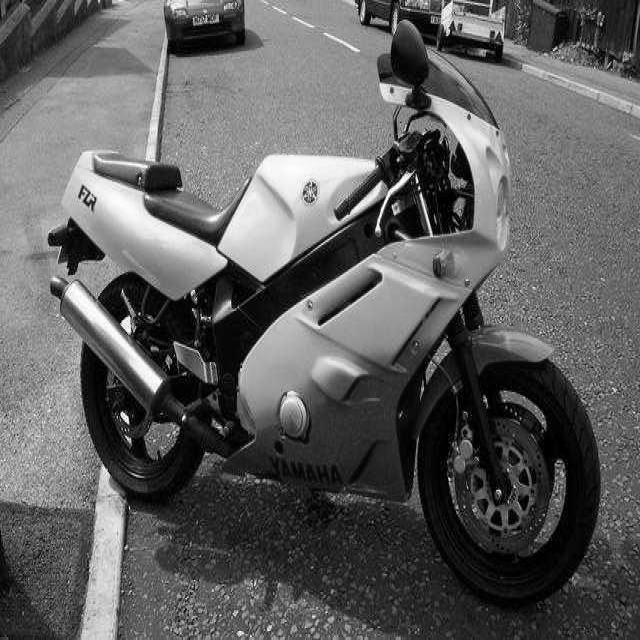Car: (166, 0, 244, 50)
Motorcycle: (50, 22, 599, 603)
